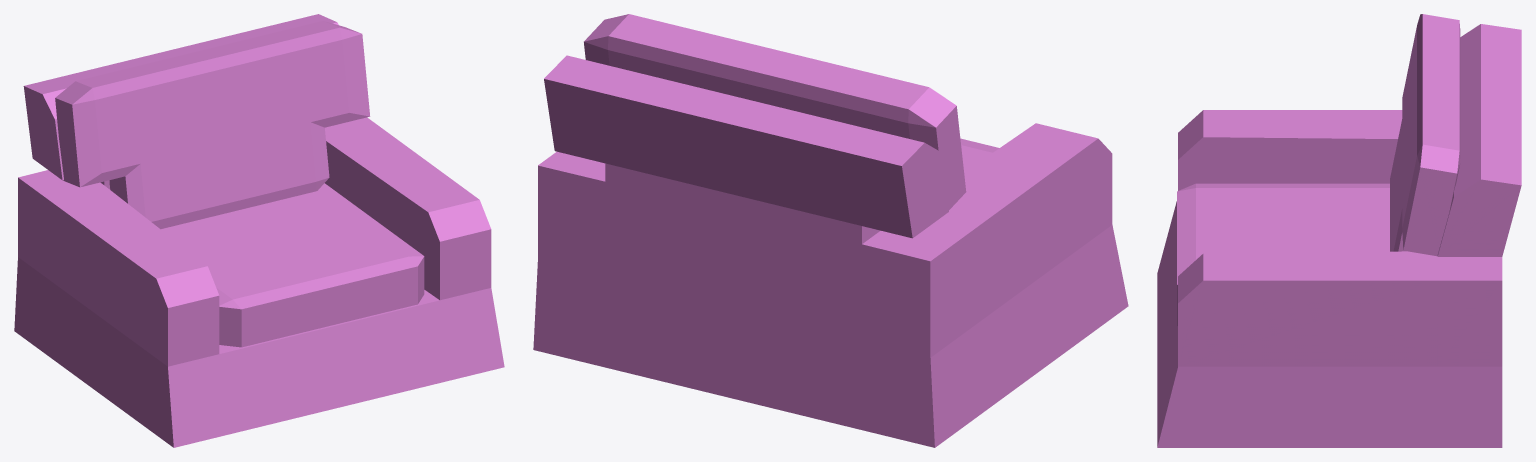
File: Sofa.glb
The picture shows the model from 3 angles, left to right: view 1: azimuth 30°, elevation 25°; view 2: azimuth 150°, elevation 25°; view 3: azimuth 270°, elevation 25°; orthographic projection. The views are drawn at different scales.
Parts seen in each view (by area): view 1: Sofa; view 2: Sofa; view 3: Sofa.
Part boxes in pixels (left/top/right/bottom): Sofa: left=14, top=14, right=504, bottom=447; Sofa: left=533, top=14, right=1128, bottom=447; Sofa: left=1157, top=14, right=1521, bottom=447.
Bounding box in the file's own units: 0.8354 × 0.6277 × 0.7369.
